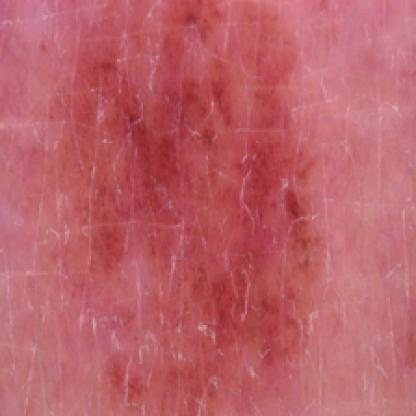benign: (56, 2, 325, 392)
